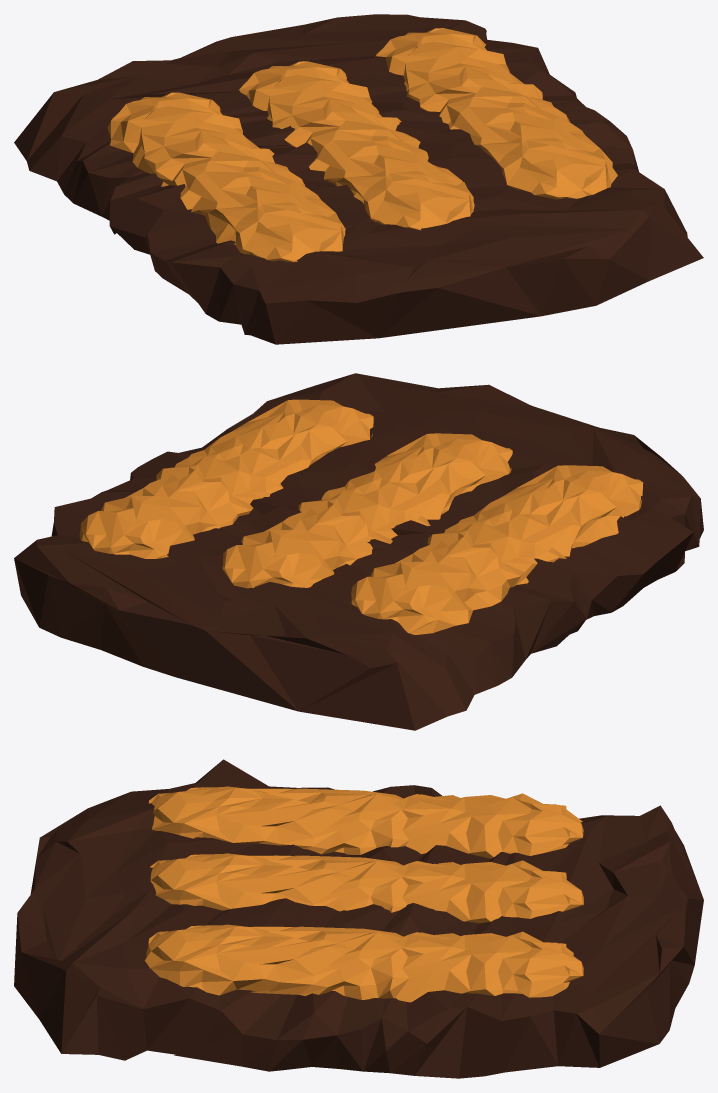
File: huerto.FBX
3 views of the same model, one above another, from view 1: azimuth 30°, elevation 25°; view 2: azimuth 150°, elevation 25°; view 3: azimuth 270°, elevation 25° (orthographic). The views are drawn at different scales.
Visible parts, largest first — view 1: Object001, huerto; view 2: Object001, huerto; view 3: Object001, huerto.
Part boxes in pixels (x1,y1,x2,y2): Object001: (14, 14, 703, 344); huerto: (107, 28, 617, 262); Object001: (14, 373, 703, 730); huerto: (79, 399, 643, 634); Object001: (14, 759, 703, 1078); huerto: (144, 786, 583, 1002).
Bounding box in the file's own units: 130 × 18.25 × 144.
